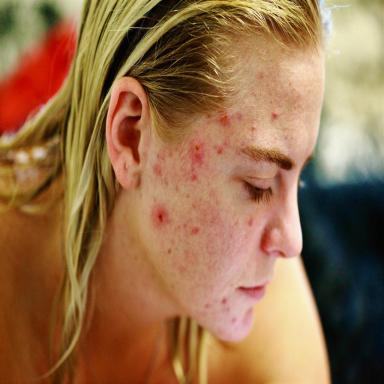acne: (221, 115, 229, 126), (214, 145, 223, 154), (154, 164, 161, 175), (191, 226, 199, 235), (271, 111, 278, 119), (248, 217, 253, 226), (237, 111, 242, 120), (158, 214, 163, 222), (224, 137, 229, 145), (192, 174, 197, 181), (222, 298, 227, 304), (195, 144, 199, 151), (251, 125, 256, 130), (260, 71, 263, 78), (195, 153, 199, 157)
